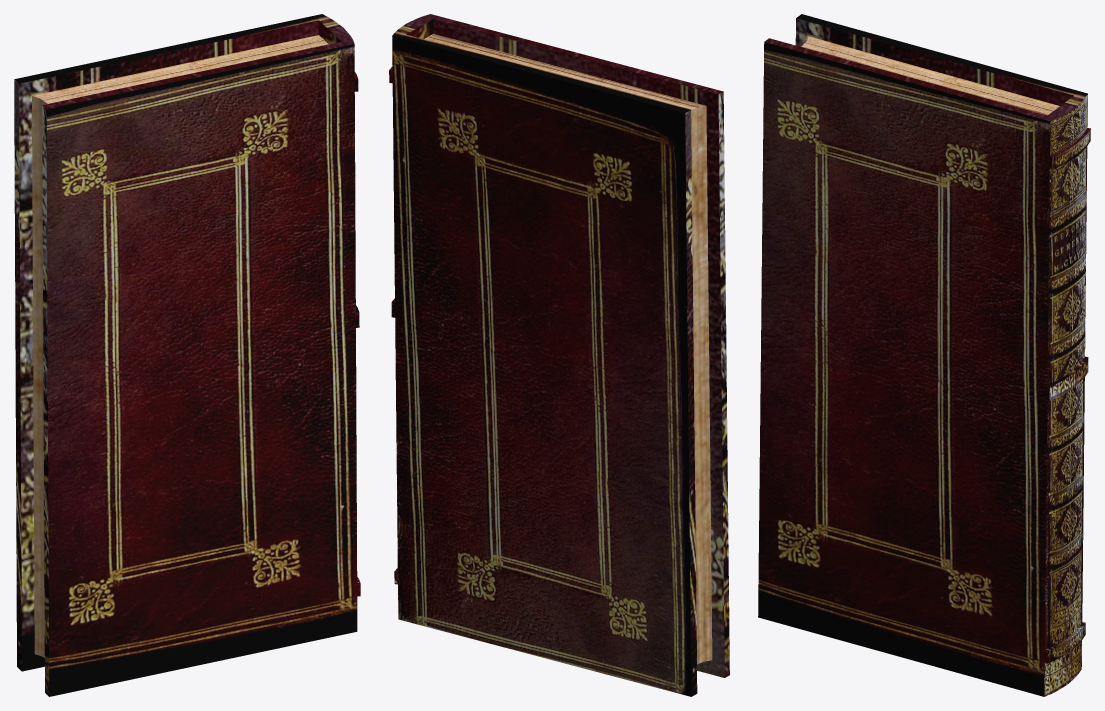
Rendered from Obj_Book.fbx.
The picture shows the model from 3 angles, left to right: view 1: azimuth 30°, elevation 25°; view 2: azimuth 150°, elevation 25°; view 3: azimuth 330°, elevation 25°; orthographic projection. The views are drawn at different scales.
Parts seen in each view (by area): view 1: polySurface41; view 2: polySurface41; view 3: polySurface41.
Boxes of the visible parts, <box> form: polySurface41: <box>14,14,360,696</box>; polySurface41: <box>389,14,729,696</box>; polySurface41: <box>758,14,1090,696</box>.
Bounding box in the file's own units: 1.42 × 2.58 × 0.3825.
2 materials, 2 textured.
